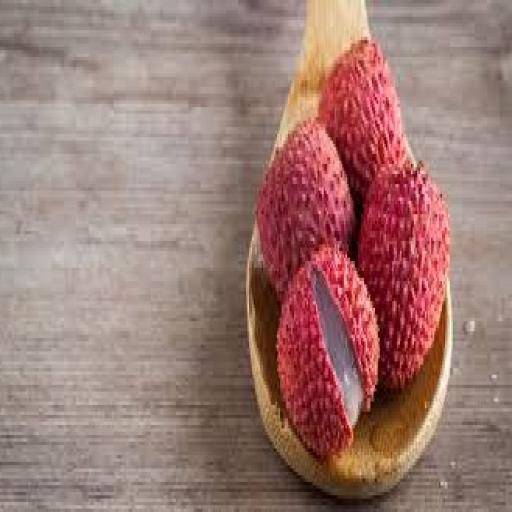lychee: (277, 248, 378, 458), (357, 164, 448, 388), (256, 121, 353, 301), (319, 41, 405, 204)
